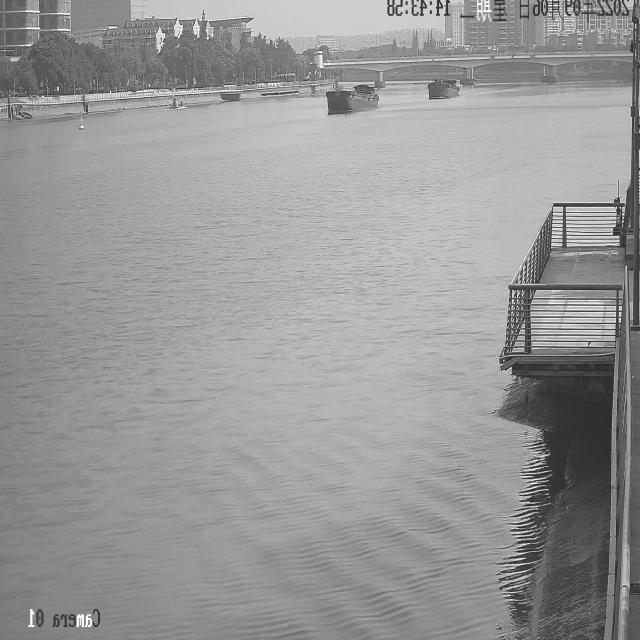ship: (326, 83, 380, 114), (428, 78, 460, 99), (170, 93, 187, 108)
